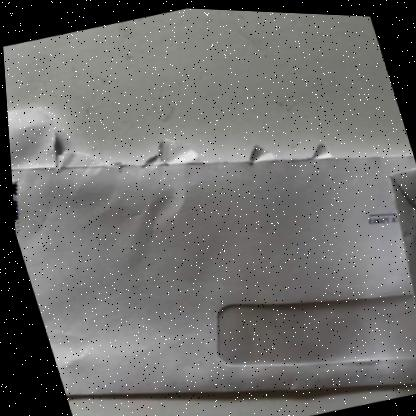Paper: (9, 152, 416, 398)
